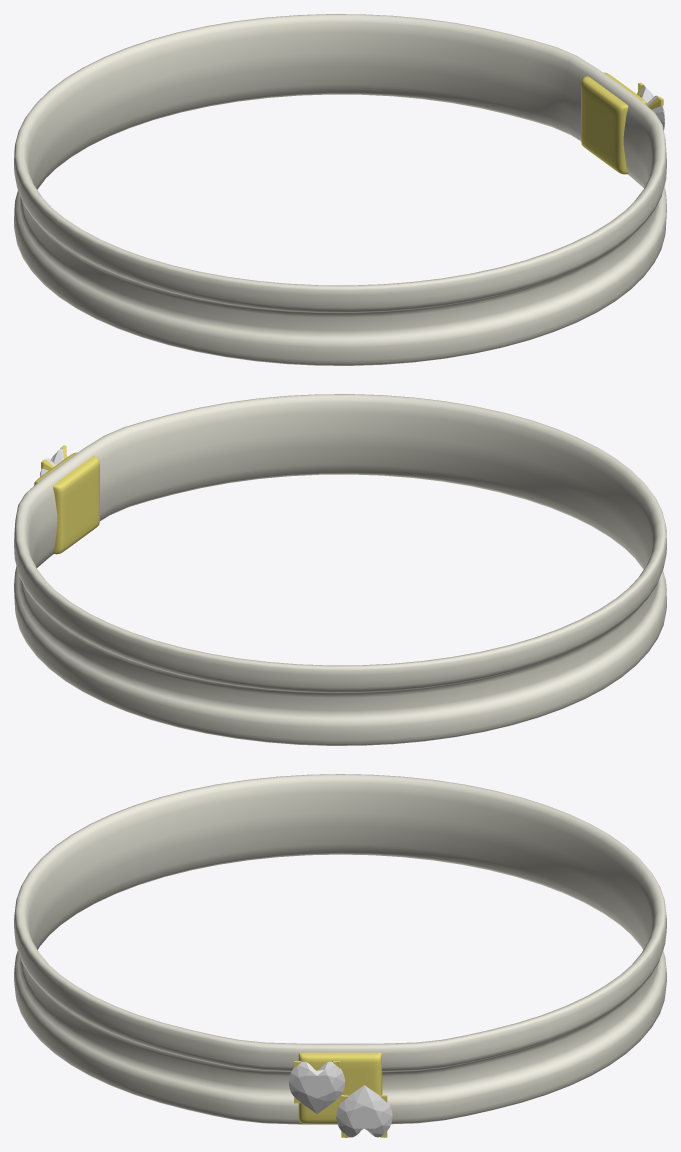
File: Ring2.glb
3 renders of one model, top to bottom at view 1: azimuth 30°, elevation 25°; view 2: azimuth 150°, elevation 25°; view 3: azimuth 270°, elevation 25°, orthographic.
Visible parts, largest first — view 1: A_Ring_4_Circle.027; view 2: A_Ring_4_Circle.027; view 3: A_Ring_4_Circle.027.
Boxes of the visible parts, left/top/right/bottom form: A_Ring_4_Circle.027: left=14, top=14, right=666, bottom=365; A_Ring_4_Circle.027: left=14, top=394, right=666, bottom=745; A_Ring_4_Circle.027: left=14, top=774, right=666, bottom=1137.
Size of the model in its own units: 0.6039 by 0.0791 by 0.5812.
